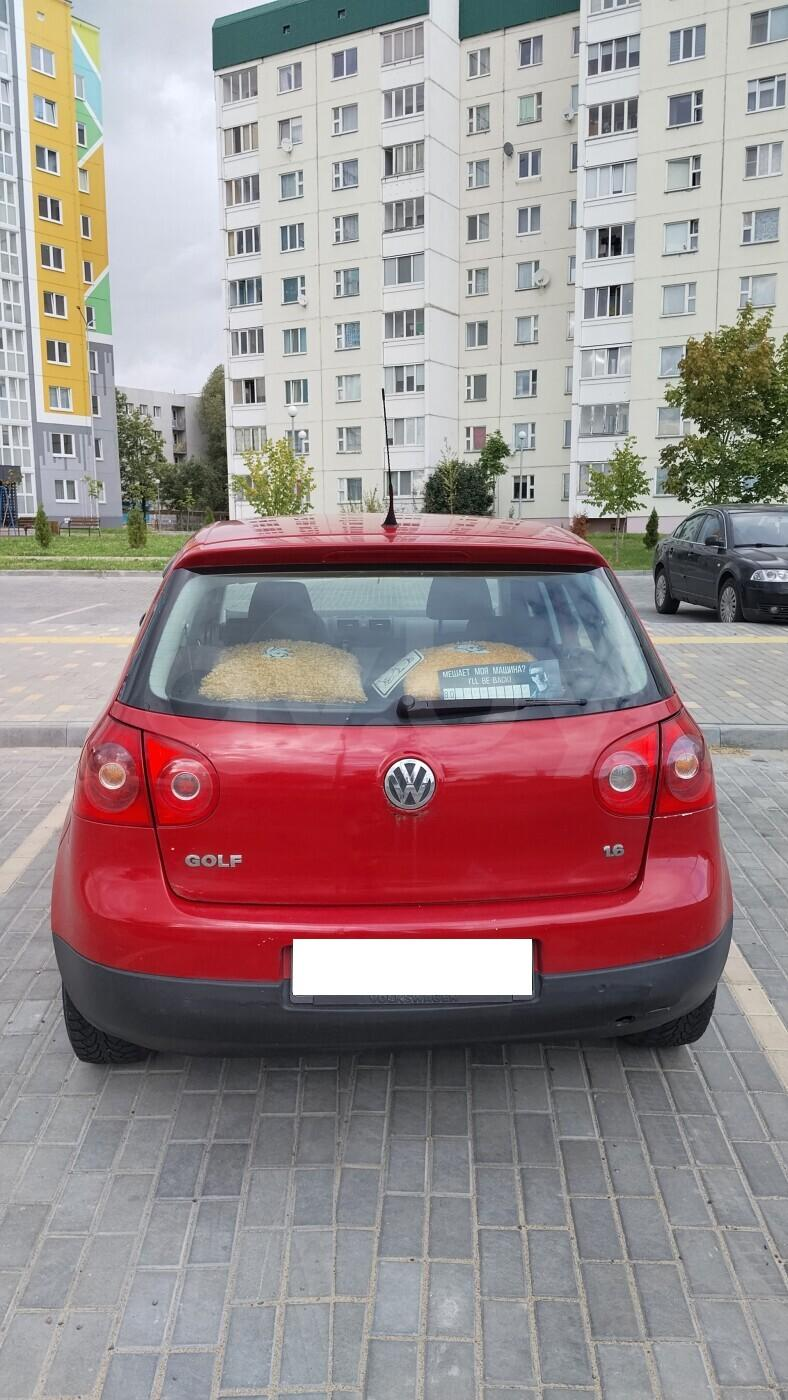Golf_2003-2009: (50, 508, 735, 1078)
